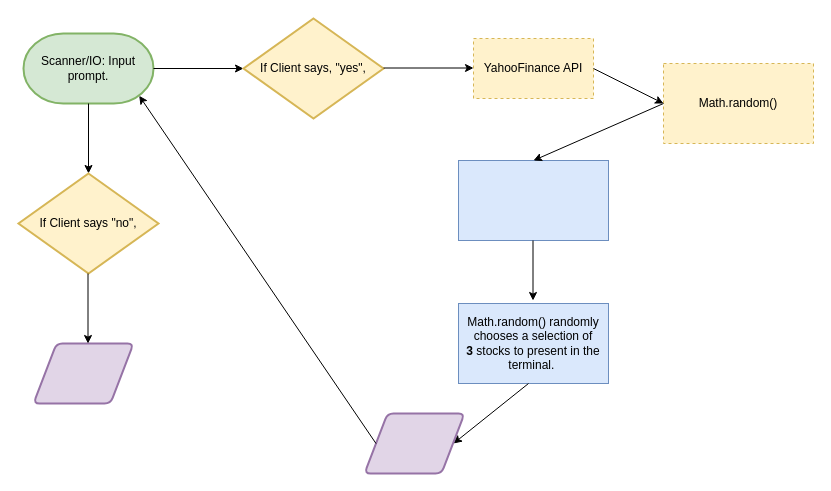
The diagram is 831 pixels wide and 491 high, and some of its shapes have lost their labels. The shapes that lost their labels are listed below. From the top down, each one's centre as x and y in pixels, then its label:
the point at 533,200: Math.random() prompts YahooFinanceAPI to store random stocks in an array.
the point at 83,373: Terminal closed.
the point at 414,443: Stocks are shown on terminal
